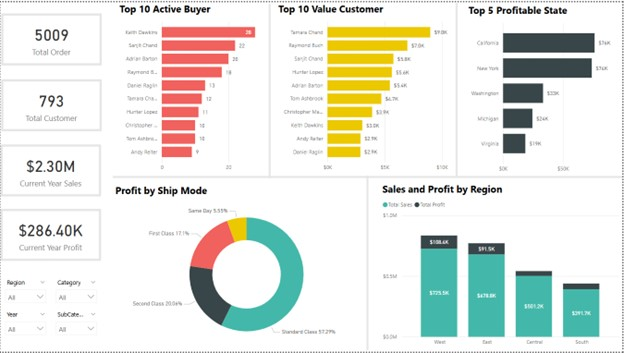

This screenshot's page, from the dashboard's own definition file:
{"tool":"powerbi","page":{"name":"Demographics","canvas":[1280,720],"ordinal":1},"visuals":[{"type":"clusteredBarChart","title":"Top 10 Value Customer","fields":{"Category":["superstore.CustomerName"],"Y":["superstore.Profit"]},"box":[567.1,0,372.9,357.1],"z":1000},{"type":"clusteredBarChart","title":"Top 5 Profitable State","fields":{"Category":["superstore.State"],"Y":["superstore.Profit"]},"box":[958.6,2.9,321.4,357.1],"z":2000},{"type":"columnChart","title":"Sales and Profit by Region","fields":{"Category":["superstore.Region"],"Y":["superstore.Sales","superstore.Profit"]},"box":[781.4,371.4,498.6,345.7],"z":3000},{"type":"donutChart","title":"Profit by Ship Mode","fields":{"Category":["superstore.ShipMode"],"Y":["superstore.Profit"]},"box":[231.4,374.3,550,345.7],"z":4000},{"type":"clusteredBarChart","title":"Top 10 Active Buyer","fields":{"Category":["superstore.CustomerName"],"Y":["superstore.OrderID"]},"box":[240,0,314.3,357.1],"z":12000},{"type":"shape","box":[231.4,342.9,1048.6,34.3],"z":12001},{"type":"slicer","fields":{"Values":["superstore.Region"]},"box":[0,564.3,104.3,65.7],"z":12002},{"type":"slicer","fields":{"Values":["DateTable.Date.Variation.Date Hierarchy.Year"]},"box":[0,630,104.3,65.7],"z":12003},{"type":"slicer","fields":{"Values":["superstore.Category"]},"box":[104.3,564.3,104.3,65.7],"z":12004},{"type":"slicer","fields":{"Values":["superstore.SubCategory"]},"box":[104.3,630,104.3,65.7],"z":12005},{"type":"card","fields":{"Values":["superstore.Profit"]},"box":[0,425.7,207.1,107.1],"z":12006},{"type":"card","fields":{"Values":["superstore.Sales"]},"box":[0,292.9,207.1,107.1],"z":12007},{"type":"card","fields":{"Values":["superstore.CustomerName"]},"box":[1.4,158.6,207.1,107.1],"z":12008},{"type":"card","fields":{"Values":["superstore.OrderID"]},"box":[1.4,22.9,207.1,107.1],"z":12009},{"type":"shape","box":[515.7,2.9,77.1,360],"z":12010},{"type":"shape","box":[901.4,1.4,75.7,360],"z":12011},{"type":"shape","box":[717.1,357.1,77.1,360],"z":12012}]}

Visuals, with their boxes in screenshot pixels (x1, y1, x2, y2), scaled from the page's 1280x720 canvas onto the 624x353 screenshot:
"Top 10 Value Customer" clusteredBarChart: left=276, top=0, right=458, bottom=175
"Top 5 Profitable State" clusteredBarChart: left=467, top=1, right=623, bottom=176
"Sales and Profit by Region" columnChart: left=381, top=182, right=623, bottom=352
"Profit by Ship Mode" donutChart: left=113, top=184, right=381, bottom=352
"Top 10 Active Buyer" clusteredBarChart: left=117, top=0, right=270, bottom=175
shape: left=113, top=168, right=623, bottom=185
slicer - superstore.Region: left=0, top=277, right=51, bottom=309
slicer - DateTable.Date.Variation.Date Hierarchy.Year: left=0, top=309, right=51, bottom=341
slicer - superstore.Category: left=51, top=277, right=102, bottom=309
slicer - superstore.SubCategory: left=51, top=309, right=102, bottom=341
card - superstore.Profit: left=0, top=209, right=101, bottom=261
card - superstore.Sales: left=0, top=144, right=101, bottom=196
card - superstore.CustomerName: left=1, top=78, right=102, bottom=130
card - superstore.OrderID: left=1, top=11, right=102, bottom=64
shape: left=251, top=1, right=289, bottom=178
shape: left=439, top=1, right=476, bottom=177
shape: left=350, top=175, right=387, bottom=352
